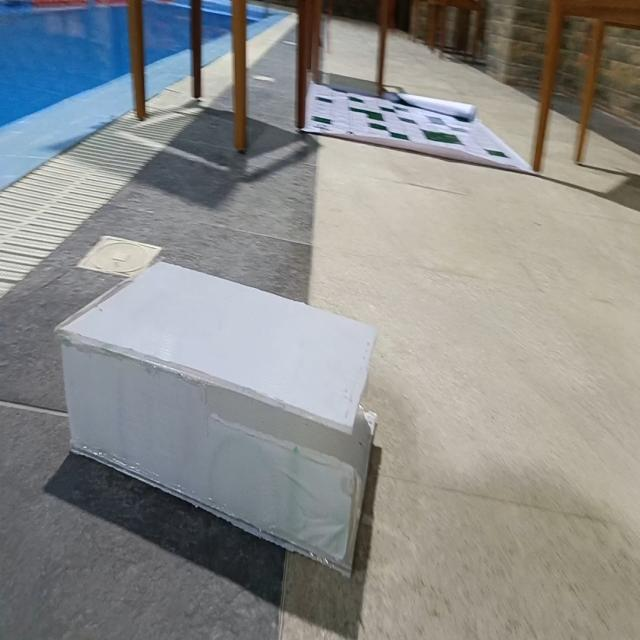Cuboid: (53, 256, 379, 580)
